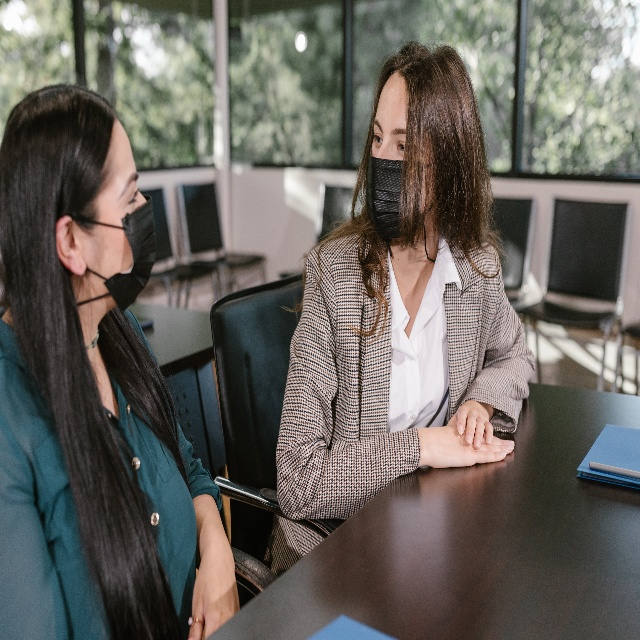Mascara: (73, 195, 156, 311), (367, 144, 436, 238)
Sin_guantes: (184, 550, 240, 640), (419, 424, 514, 468), (445, 400, 494, 450)
